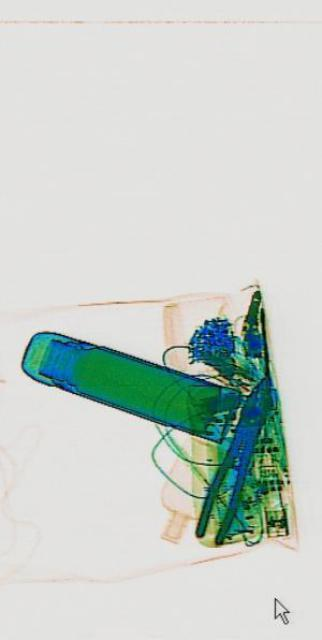Pliers: (189, 361, 276, 561)
